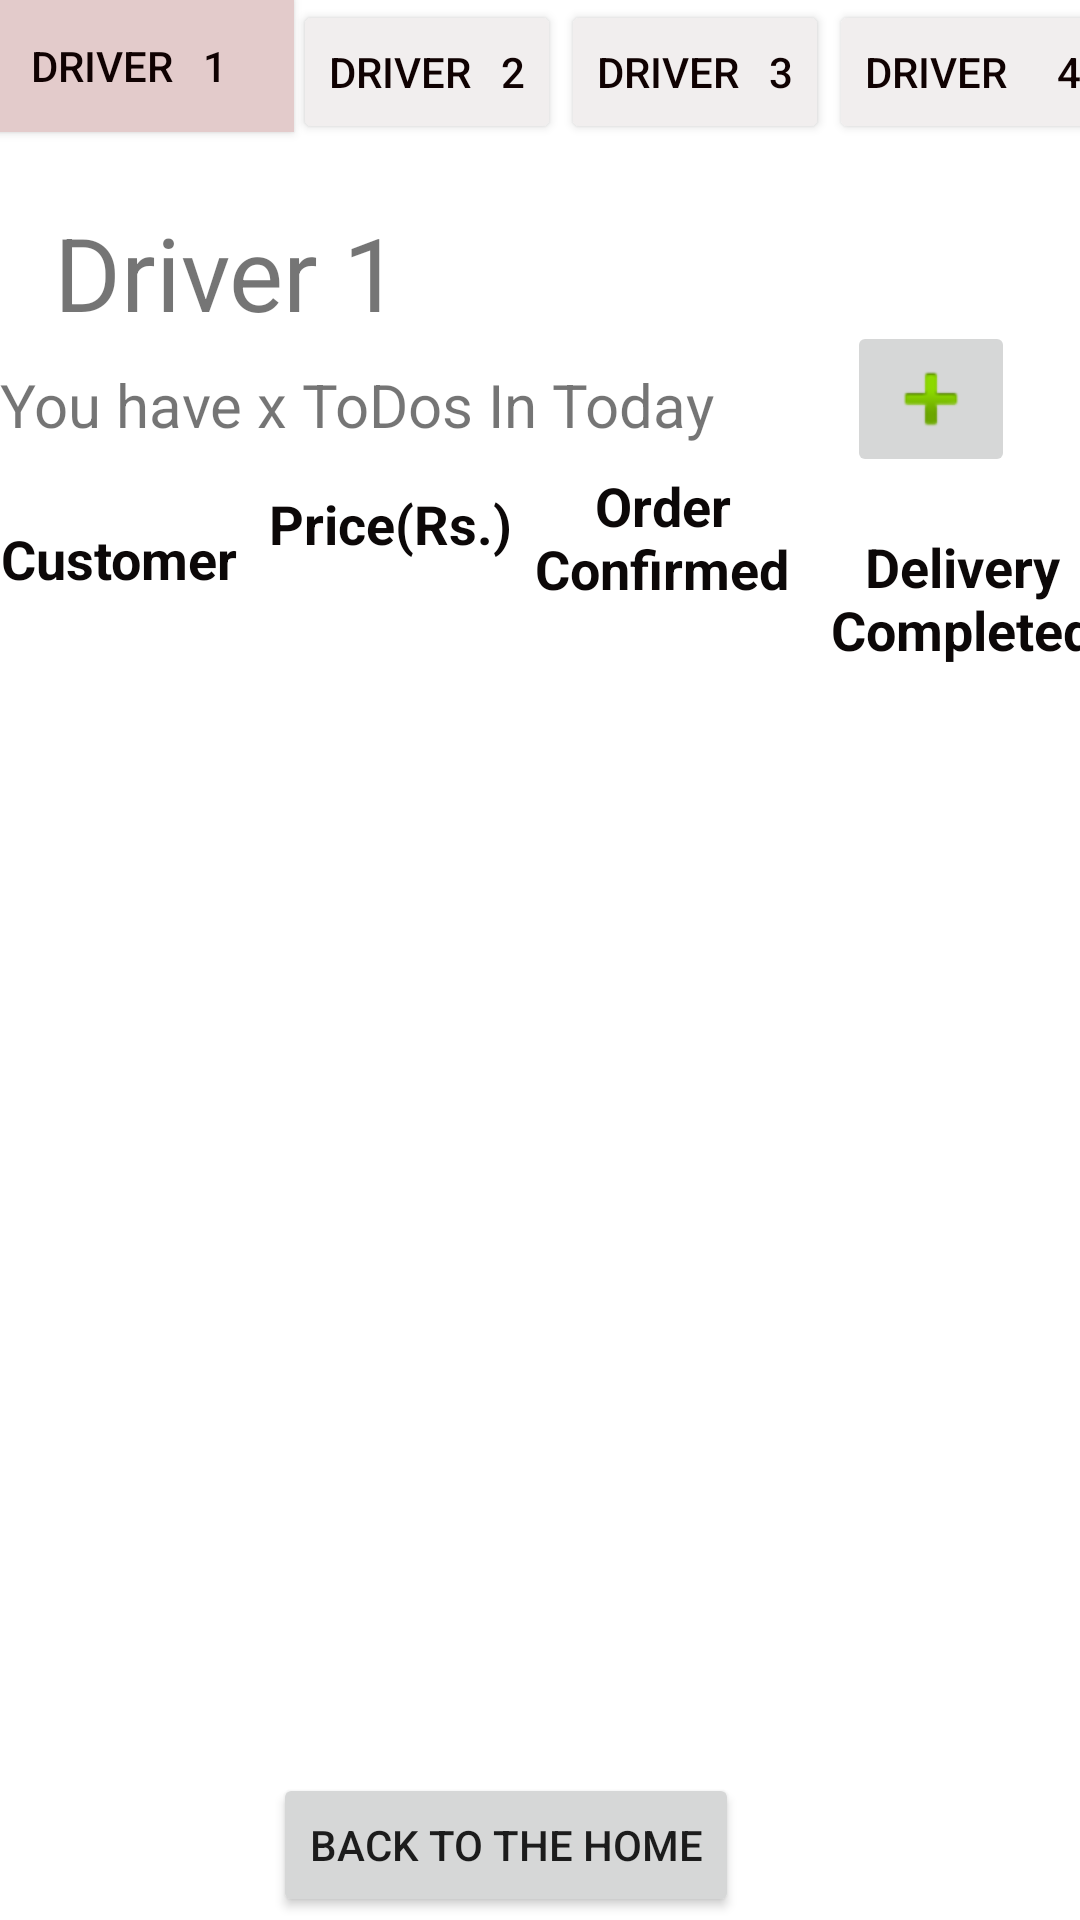

Named icons in this screenshot (1080w x 1920h) and their bounding boxes, [x1, y1, x2, y2]:
add: [859, 339, 1003, 459]
